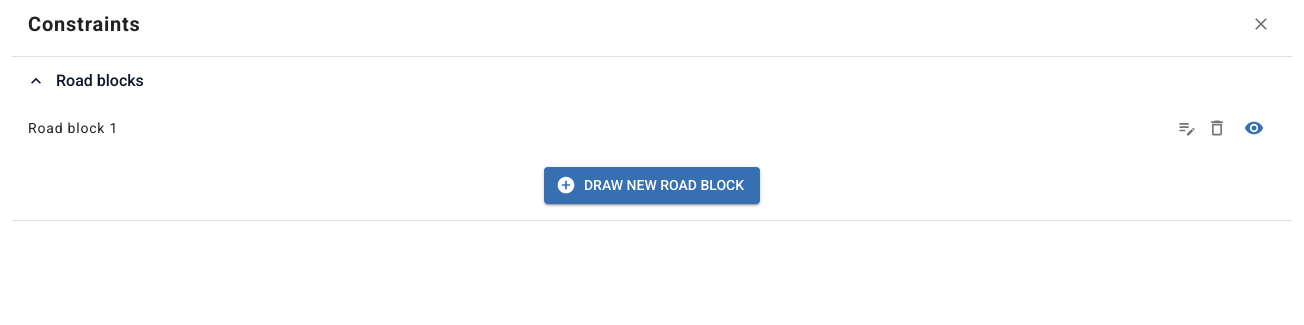
Test: ConstraintsView › Draw Menu › opens draw menu when draw button is clicked
Click the button "Draw new road block": (652, 185) [544,167,760,204]
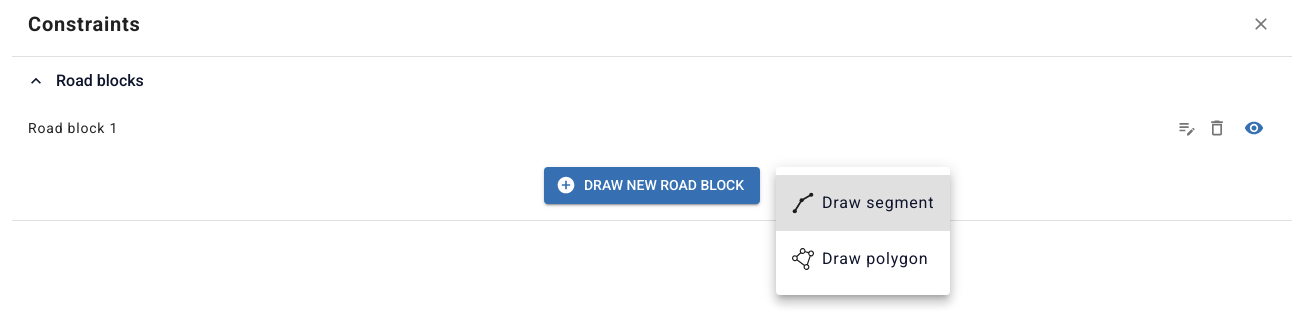
expect the menu item "Draw segment" is shown: met, box [776,175,950,231]
expect the menu item "Draw polygon" is shown: met, box [792,248,928,270]
